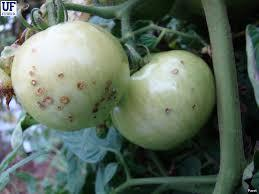tomato bacterial spot: (11, 21, 130, 132), (113, 51, 217, 153)
